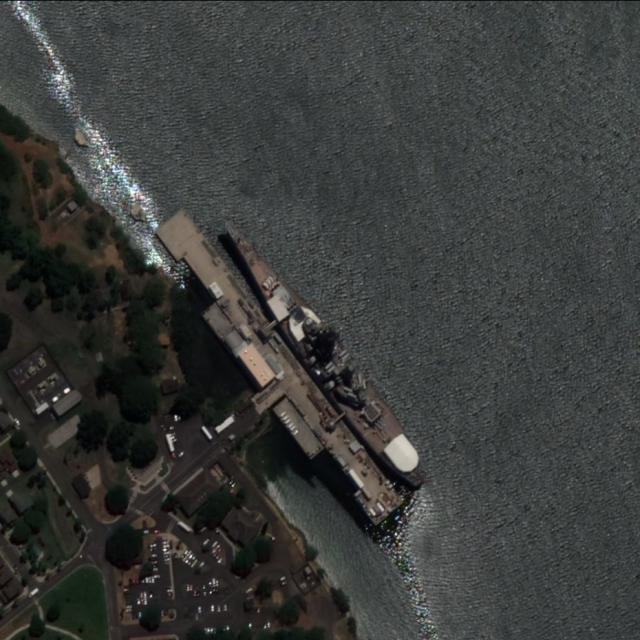Dock: (158, 206, 410, 521)
Other Warship: (209, 209, 436, 491)
